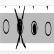correct: (31, 20, 38, 37)
not correct: (14, 5, 26, 50)
